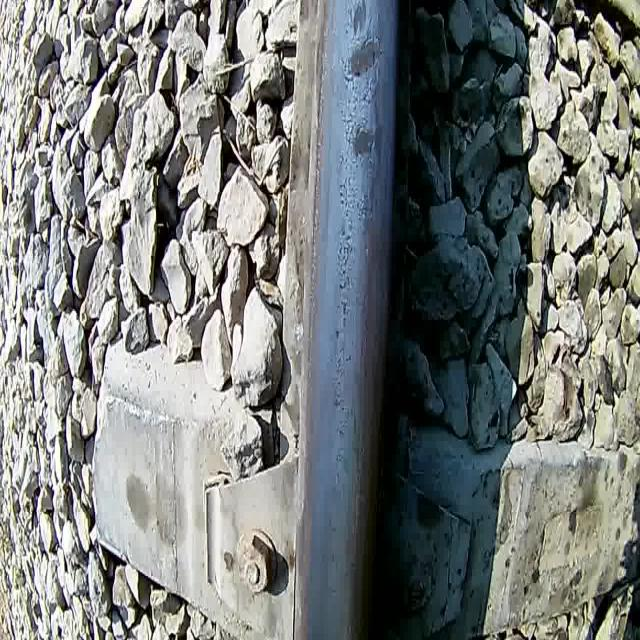Squats: (341, 94, 388, 174), (341, 33, 387, 81), (346, 0, 371, 37)
